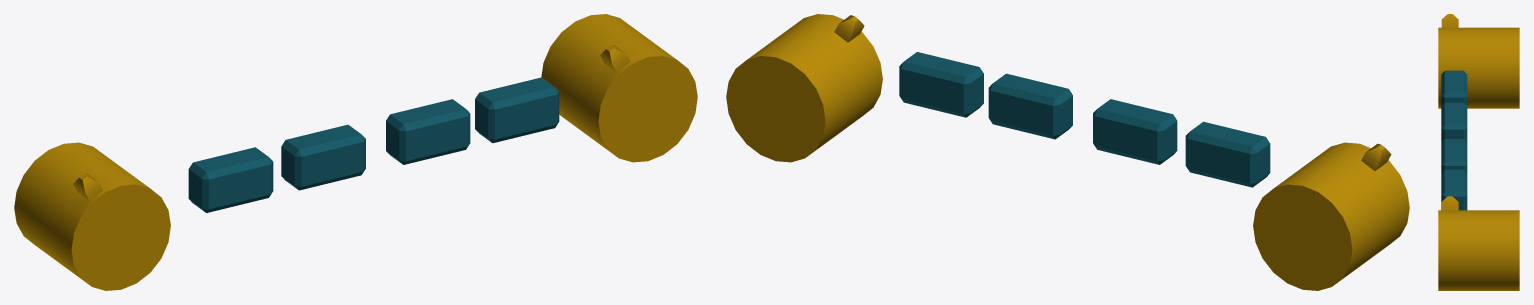
Rendered from Buttons.fbx.
The picture shows the model from 3 angles, left to right: view 1: azimuth 30°, elevation 25°; view 2: azimuth 150°, elevation 25°; view 3: azimuth 270°, elevation 25°; orthographic projection. The views are drawn at different scales.
Parts seen in each view (by area): view 1: Knob1, Knob2, Button1, Button3, Button4, Button2; view 2: Knob2, Knob1, Button1, Button2, Button3, Button4; view 3: Knob2, Knob1, Button2, Button4, Button1, Button3.
Part boxes in pixels (bbox=[...]): Knob1: bbox=[14, 142, 170, 290]; Knob2: bbox=[541, 14, 697, 162]; Button1: bbox=[188, 147, 273, 212]; Button3: bbox=[386, 99, 470, 164]; Button4: bbox=[475, 77, 559, 143]; Button2: bbox=[281, 124, 365, 190]; Knob2: bbox=[726, 14, 882, 162]; Knob1: bbox=[1253, 142, 1409, 290]; Button1: bbox=[1185, 121, 1270, 187]; Button2: bbox=[1093, 99, 1177, 164]; Button3: bbox=[988, 73, 1072, 139]; Button4: bbox=[899, 52, 983, 117]; Knob2: bbox=[1438, 196, 1519, 290]; Knob1: bbox=[1438, 14, 1519, 108]; Button2: bbox=[1441, 102, 1467, 142]; Button4: bbox=[1441, 169, 1467, 210]; Button1: bbox=[1441, 70, 1467, 106]; Button3: bbox=[1441, 139, 1467, 173].
Size of the model in its own units: 7.09 by 1.24 by 1.12.
